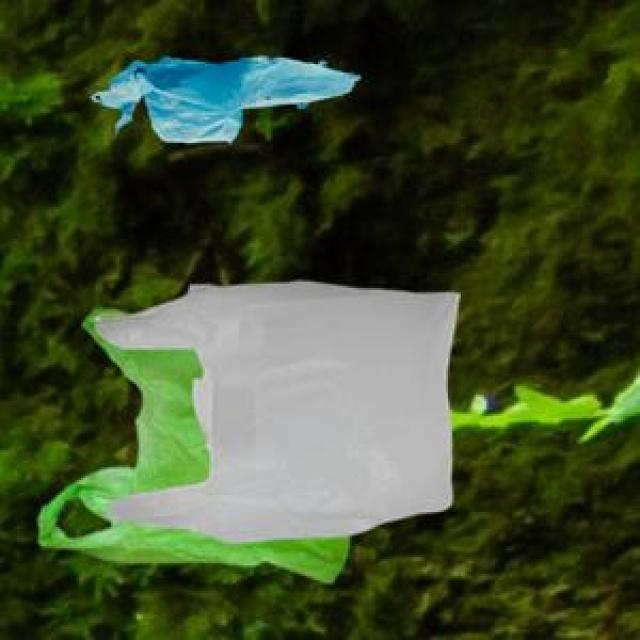waste: (39, 281, 459, 581), (94, 58, 358, 143)
